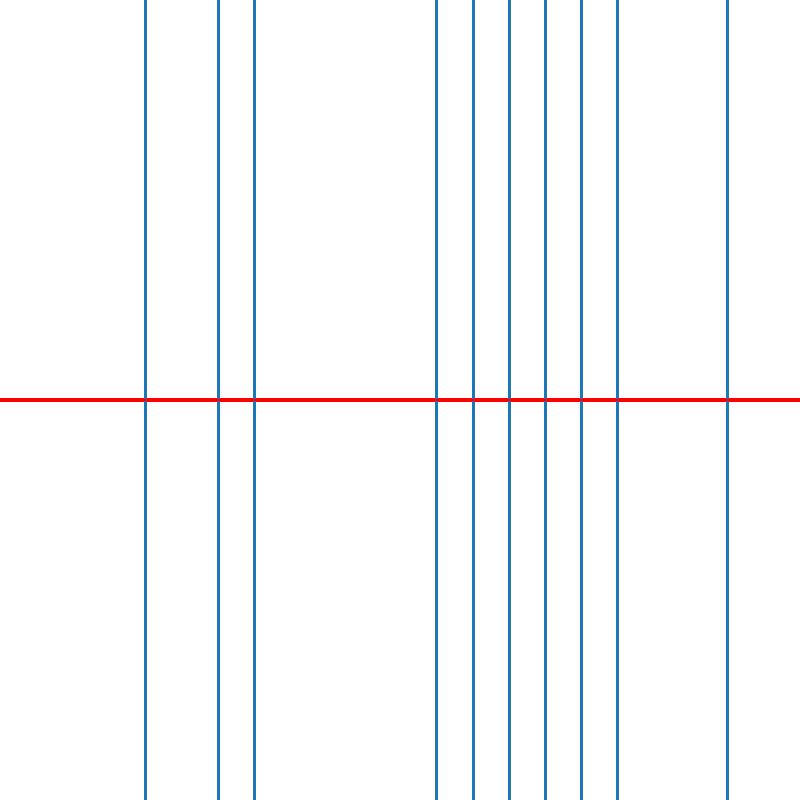root: (432, 396, 440, 404), (250, 396, 258, 404), (541, 396, 549, 404), (141, 396, 149, 404), (469, 396, 476, 404), (214, 396, 221, 404), (723, 396, 730, 404), (505, 396, 512, 404), (614, 396, 621, 404), (578, 396, 585, 404)
